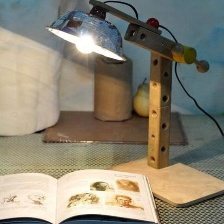light_bulb: (42, 5, 134, 65)
